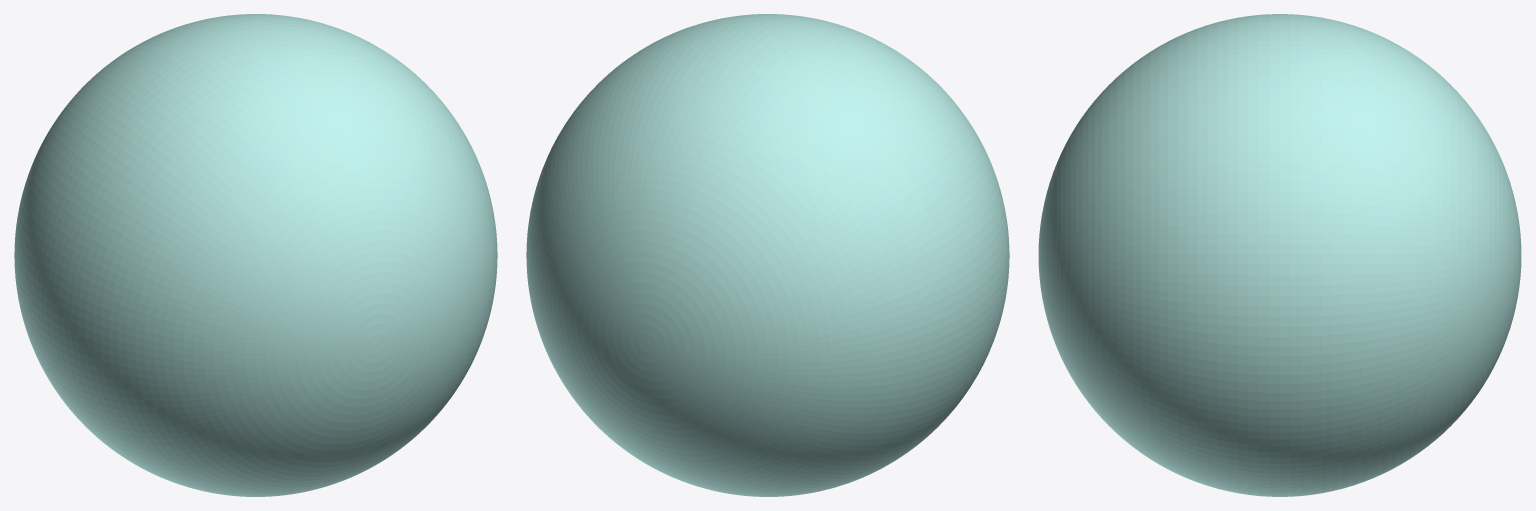
File: EEZYbotARM_Mk2_robot_base_vis_13.dae
The picture shows the model from 3 angles, left to right: view 1: azimuth 30°, elevation 25°; view 2: azimuth 150°, elevation 25°; view 3: azimuth 270°, elevation 25°; orthographic projection.
Parts seen in each view (by area): view 1: node; view 2: node; view 3: node.
Boxes of the visible parts, x1=… form: node: x1=14, y1=14, x2=497, y2=496; node: x1=526, y1=14, x2=1009, y2=496; node: x1=1038, y1=14, x2=1521, y2=496.
Size of the model in its own units: 0.006 by 0.006 by 0.006.
